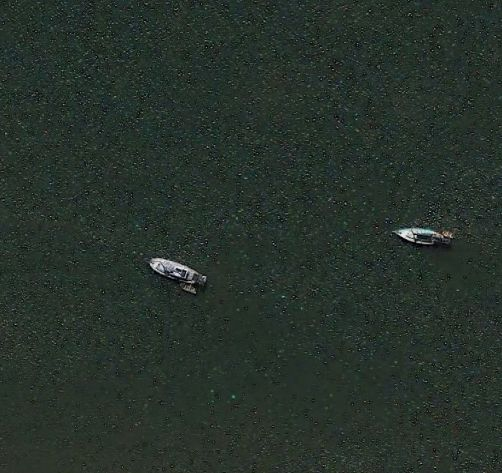boat: (145, 256, 208, 291), (389, 223, 450, 249)
